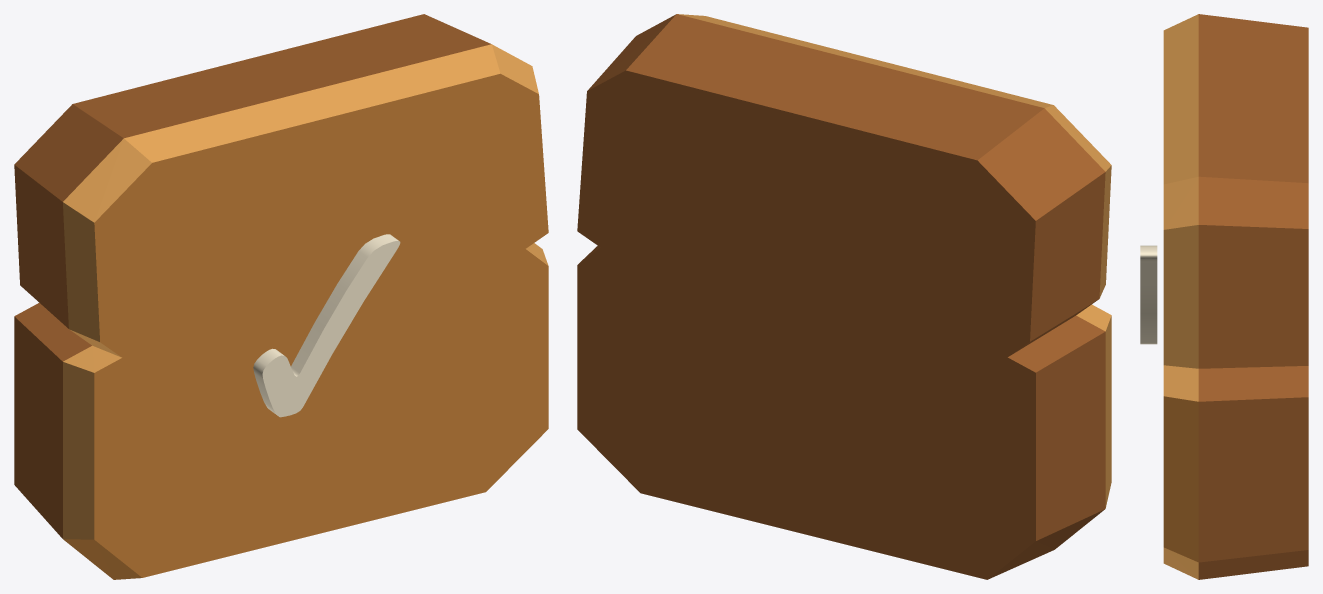
File: Accept.fbx
The picture shows the model from 3 angles, left to right: view 1: azimuth 30°, elevation 25°; view 2: azimuth 150°, elevation 25°; view 3: azimuth 270°, elevation 25°; orthographic projection. The views are drawn at different scales.
Parts seen in each view (by area): view 1: Stone.007, Icon.008; view 2: Stone.007; view 3: Stone.007, Icon.008.
Part boxes in pixels (x1,y1,x2,y2): Stone.007: (14, 14, 548, 579); Icon.008: (253, 234, 400, 417); Stone.007: (577, 14, 1111, 579); Stone.007: (1163, 14, 1308, 579); Icon.008: (1140, 245, 1157, 344).
Bounding box in the file's own units: 0.103 × 0.091 × 0.0337.
